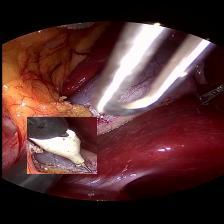Grasper: (86, 20, 216, 120), (196, 84, 224, 105)
Hook: (26, 117, 96, 174)
